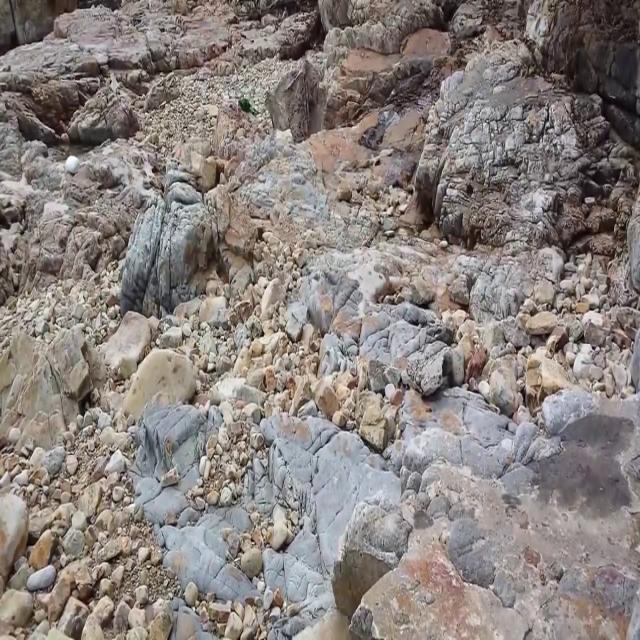camouflaged: (240, 51, 326, 141)
